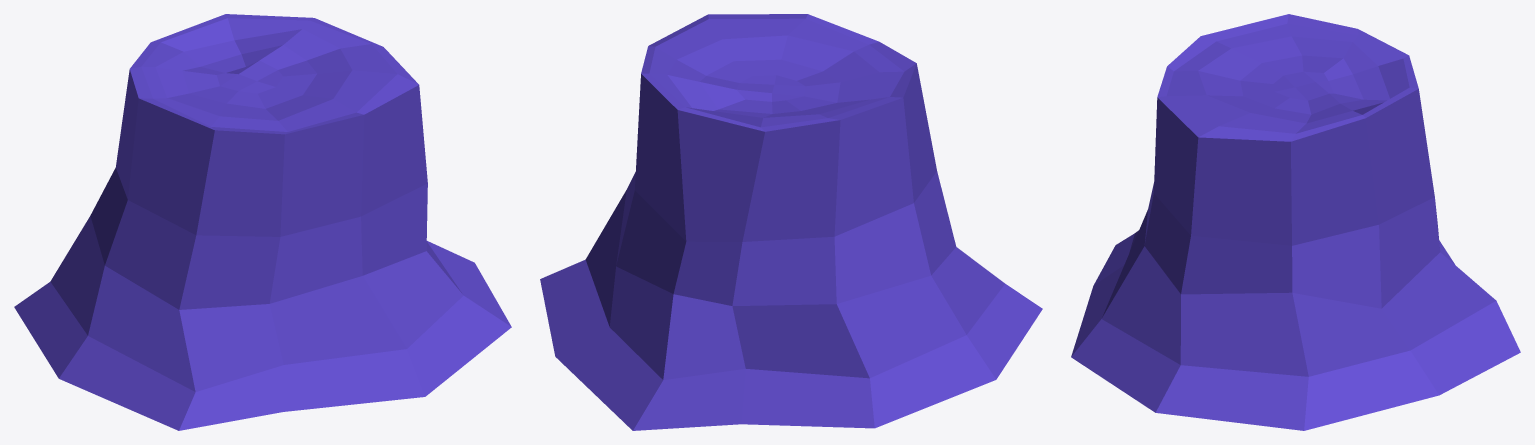
The model's file is stump_002.fbx.
3 renders of one model, left to right at view 1: azimuth 30°, elevation 25°; view 2: azimuth 150°, elevation 25°; view 3: azimuth 270°, elevation 25°, orthographic. The views are drawn at different scales.
Parts seen in each view (by area): view 1: stump_002; view 2: stump_002; view 3: stump_002.
Part boxes in pixels (box(x1,y1,x2,y2)): stump_002: box(14, 14, 511, 430); stump_002: box(540, 14, 1042, 430); stump_002: box(1071, 14, 1520, 430).
Size of the model in its own units: 552 by 335 by 508.
